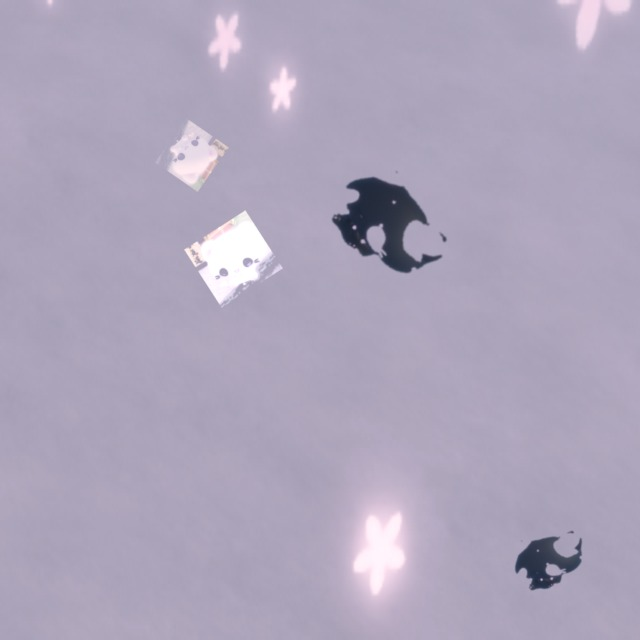urso_branco: (184, 210, 283, 308), (155, 118, 229, 192)
urso_preto: (297, 134, 480, 317), (494, 513, 605, 607)
